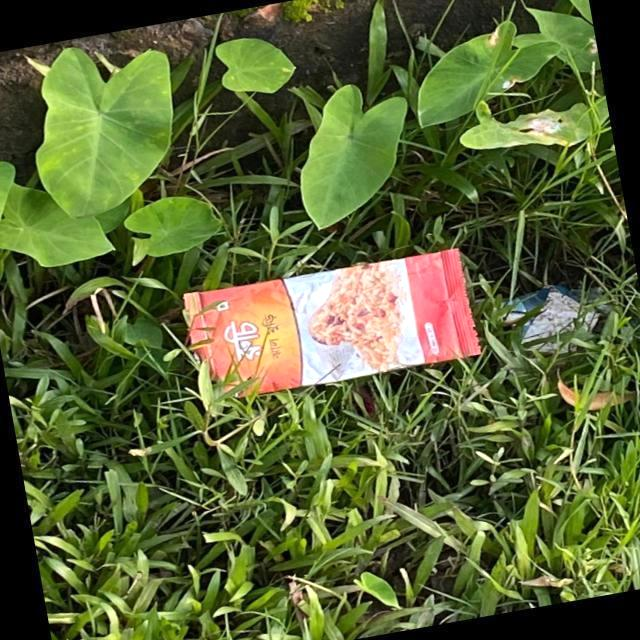packet: (184, 240, 492, 408)
